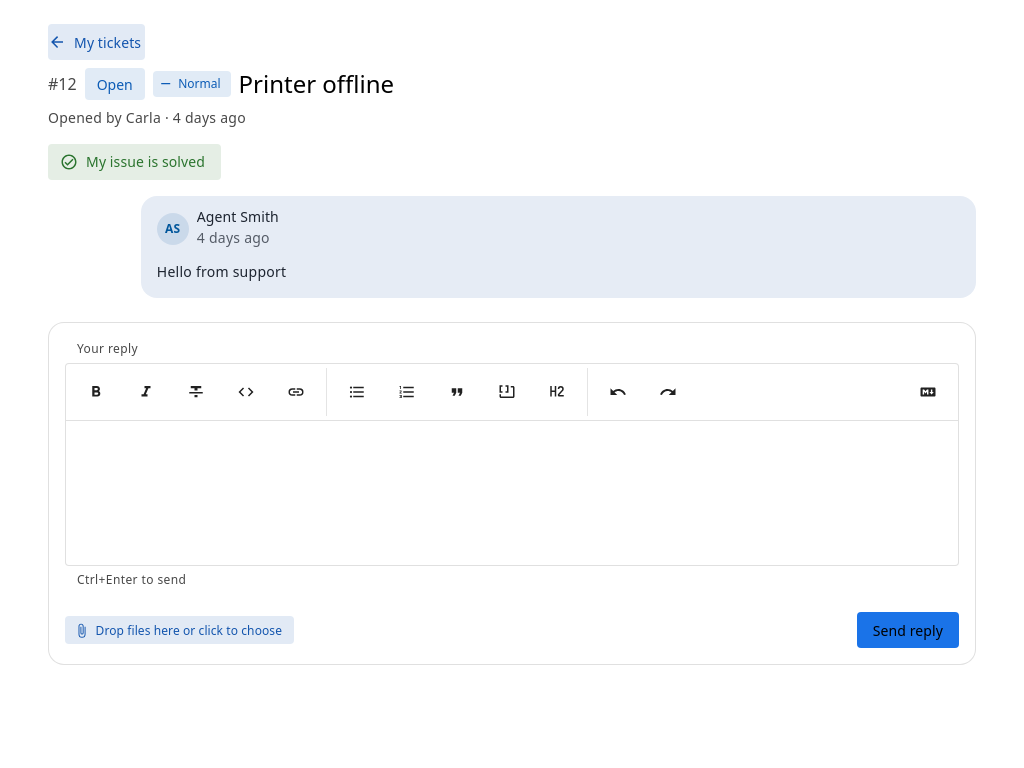
Scenario: portal ticket detail (FE-017) › a sent reply is appended and carries an Idempotency-Key
Click the button named "Markdown".
click(928, 392)  # box [908,372,948,412]
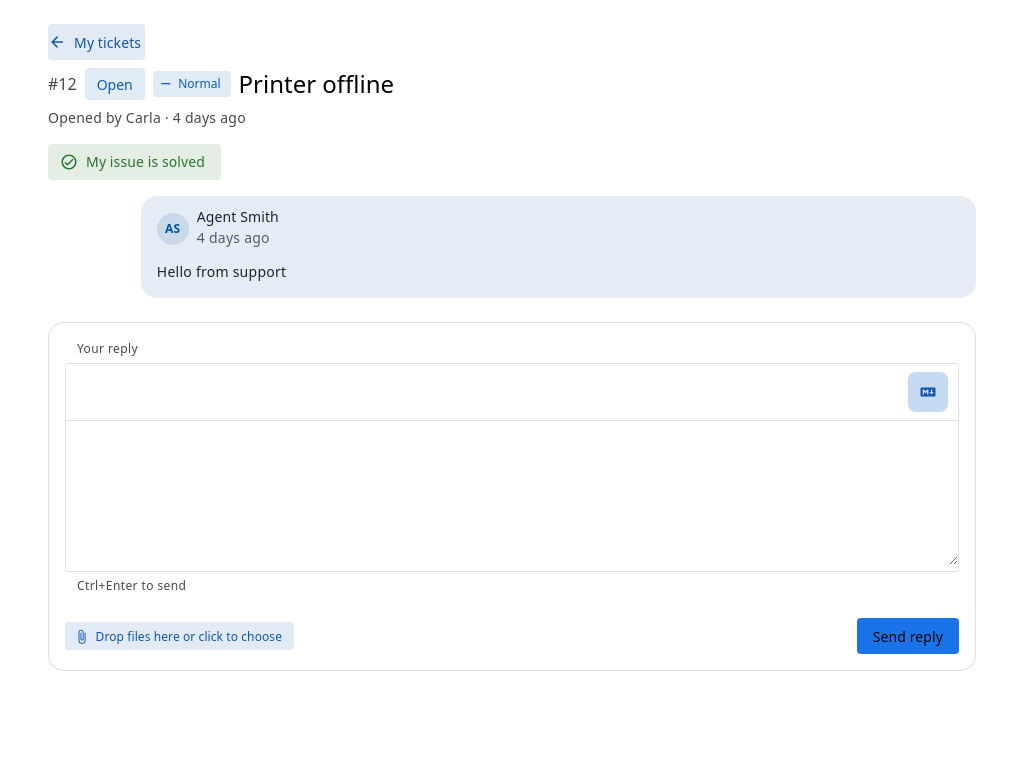
Type "Thanks!" into the text box named "Your reply".
click(512, 493); type("Thanks!")  # box [66,421,958,565]
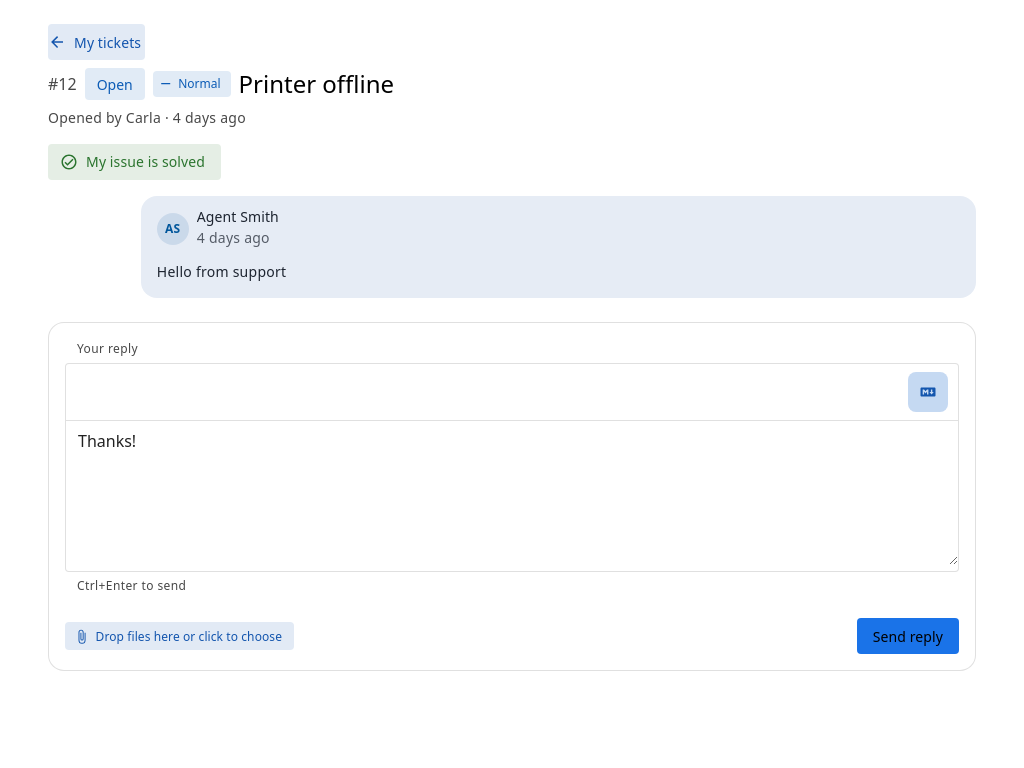
Submit the form with test id "reply-form", box [65,339,959,654]
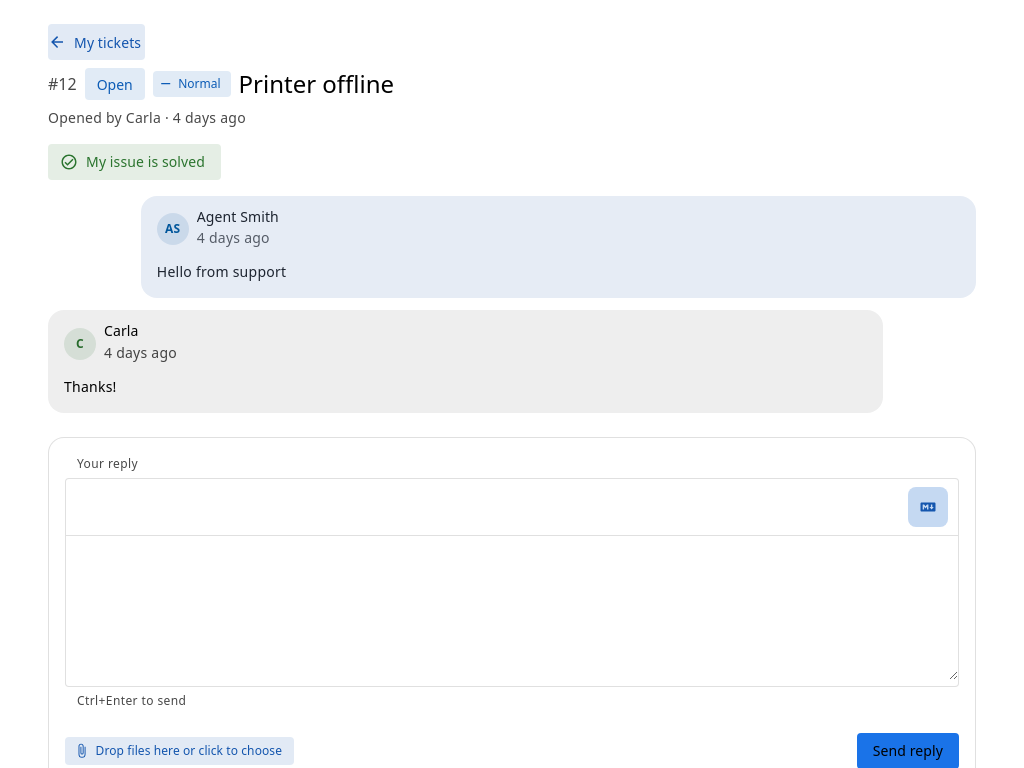
Now the number of elements with test id "msg-public" is 2, box [141,196,976,298]; [48,310,883,413]
